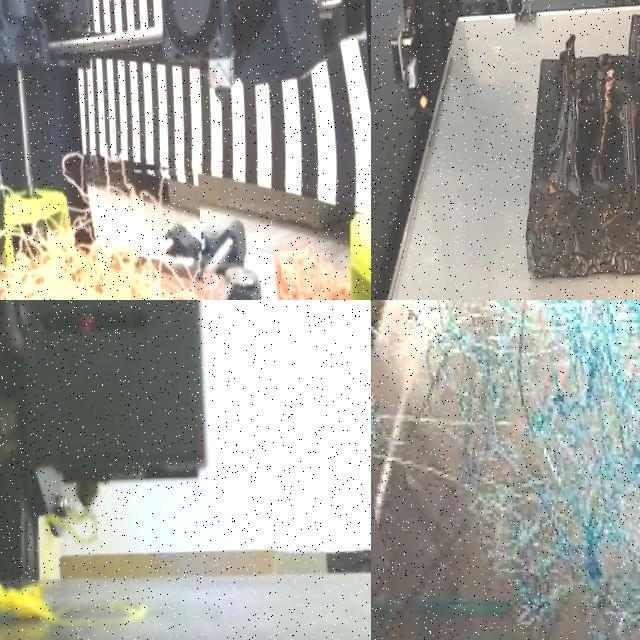spaghetti: (399, 300, 640, 640), (0, 157, 209, 300), (0, 582, 79, 624), (40, 510, 98, 542)
